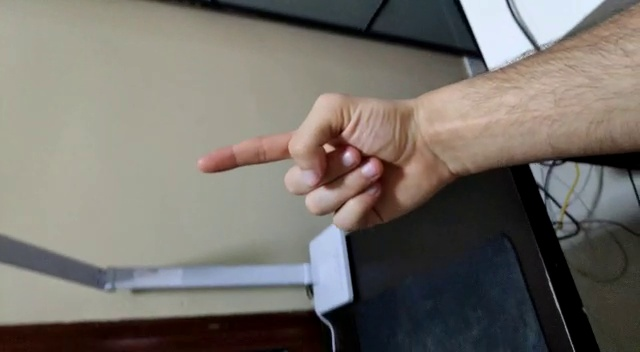One: (198, 92, 438, 233)
